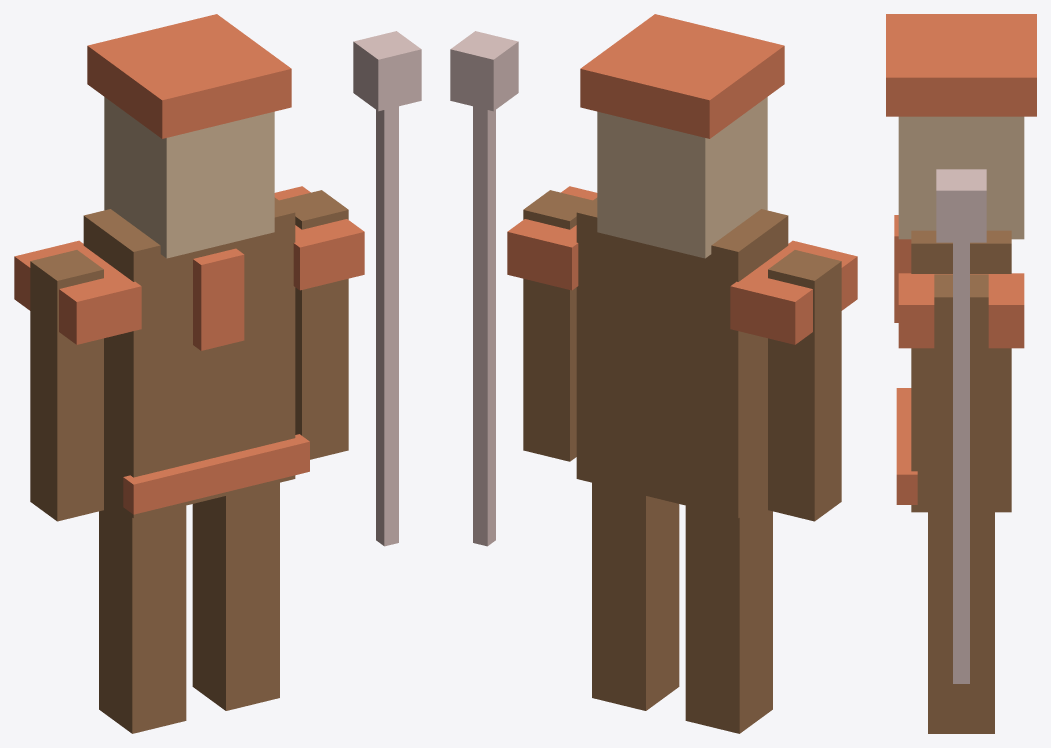
Rendered from 12_lio_ashvein_specialist_of_accent.glb.
3 views of the same model, side by side, from view 1: azimuth 30°, elevation 25°; view 2: azimuth 150°, elevation 25°; view 3: azimuth 270°, elevation 25° (orthographic).
Parts seen in each view (by area): view 1: Lio Ashvein, Specialist of Accent; view 2: Lio Ashvein, Specialist of Accent; view 3: Lio Ashvein, Specialist of Accent.
Boxes of the visible parts, x1,y1,x2,y2 form: Lio Ashvein, Specialist of Accent: (14, 14, 421, 733); Lio Ashvein, Specialist of Accent: (450, 14, 857, 733); Lio Ashvein, Specialist of Accent: (886, 14, 1036, 733).
Size of the model in its own units: 0.9957 by 1.68 by 0.3532.
